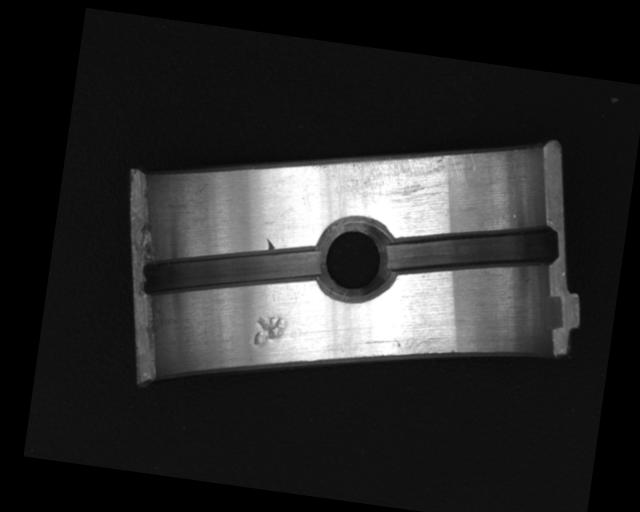bruise: (250, 312, 289, 351), (263, 236, 277, 251)
gap: (138, 224, 323, 315), (383, 206, 561, 296)
hole: (311, 213, 400, 306)
scratch: (315, 130, 479, 226)
